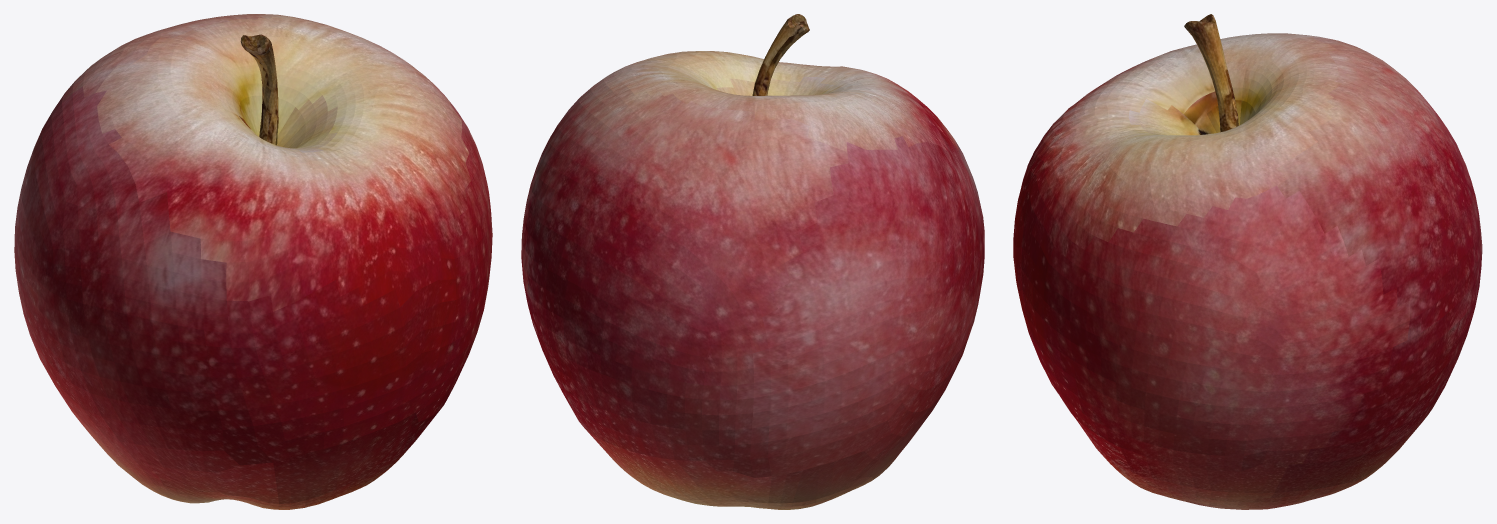
The model's file is red_apple_-_realistic_fruit_asset.glb.
3 renders of one model, left to right at view 1: azimuth 30°, elevation 25°; view 2: azimuth 150°, elevation 25°; view 3: azimuth 270°, elevation 25°, orthographic. The views are drawn at different scales.
Parts seen in each view (by area): view 1: mesh_input_0; view 2: mesh_input_0; view 3: mesh_input_0.
Boxes of the visible parts, bbox=[...] form: mesh_input_0: bbox=[14, 14, 492, 509]; mesh_input_0: bbox=[521, 14, 984, 509]; mesh_input_0: bbox=[1013, 14, 1482, 509].
Size of the model in its own units: 0.0833 by 0.0877 by 0.0844.
Materials: 1 (1 with a texture image).
